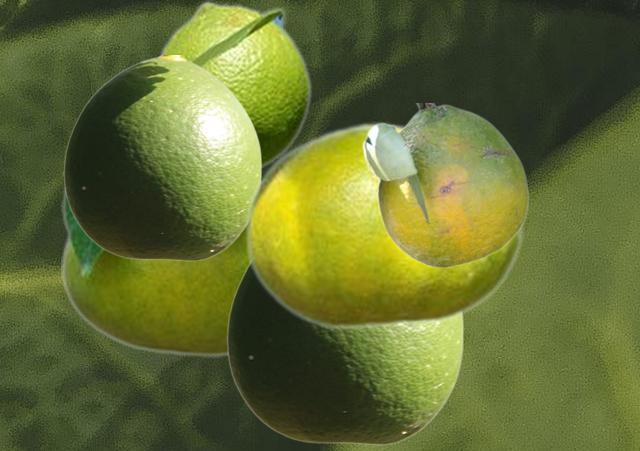dalandan: (244, 121, 522, 330), (226, 262, 463, 444), (63, 55, 261, 260), (61, 180, 247, 356), (361, 103, 528, 267), (155, 0, 312, 171)
